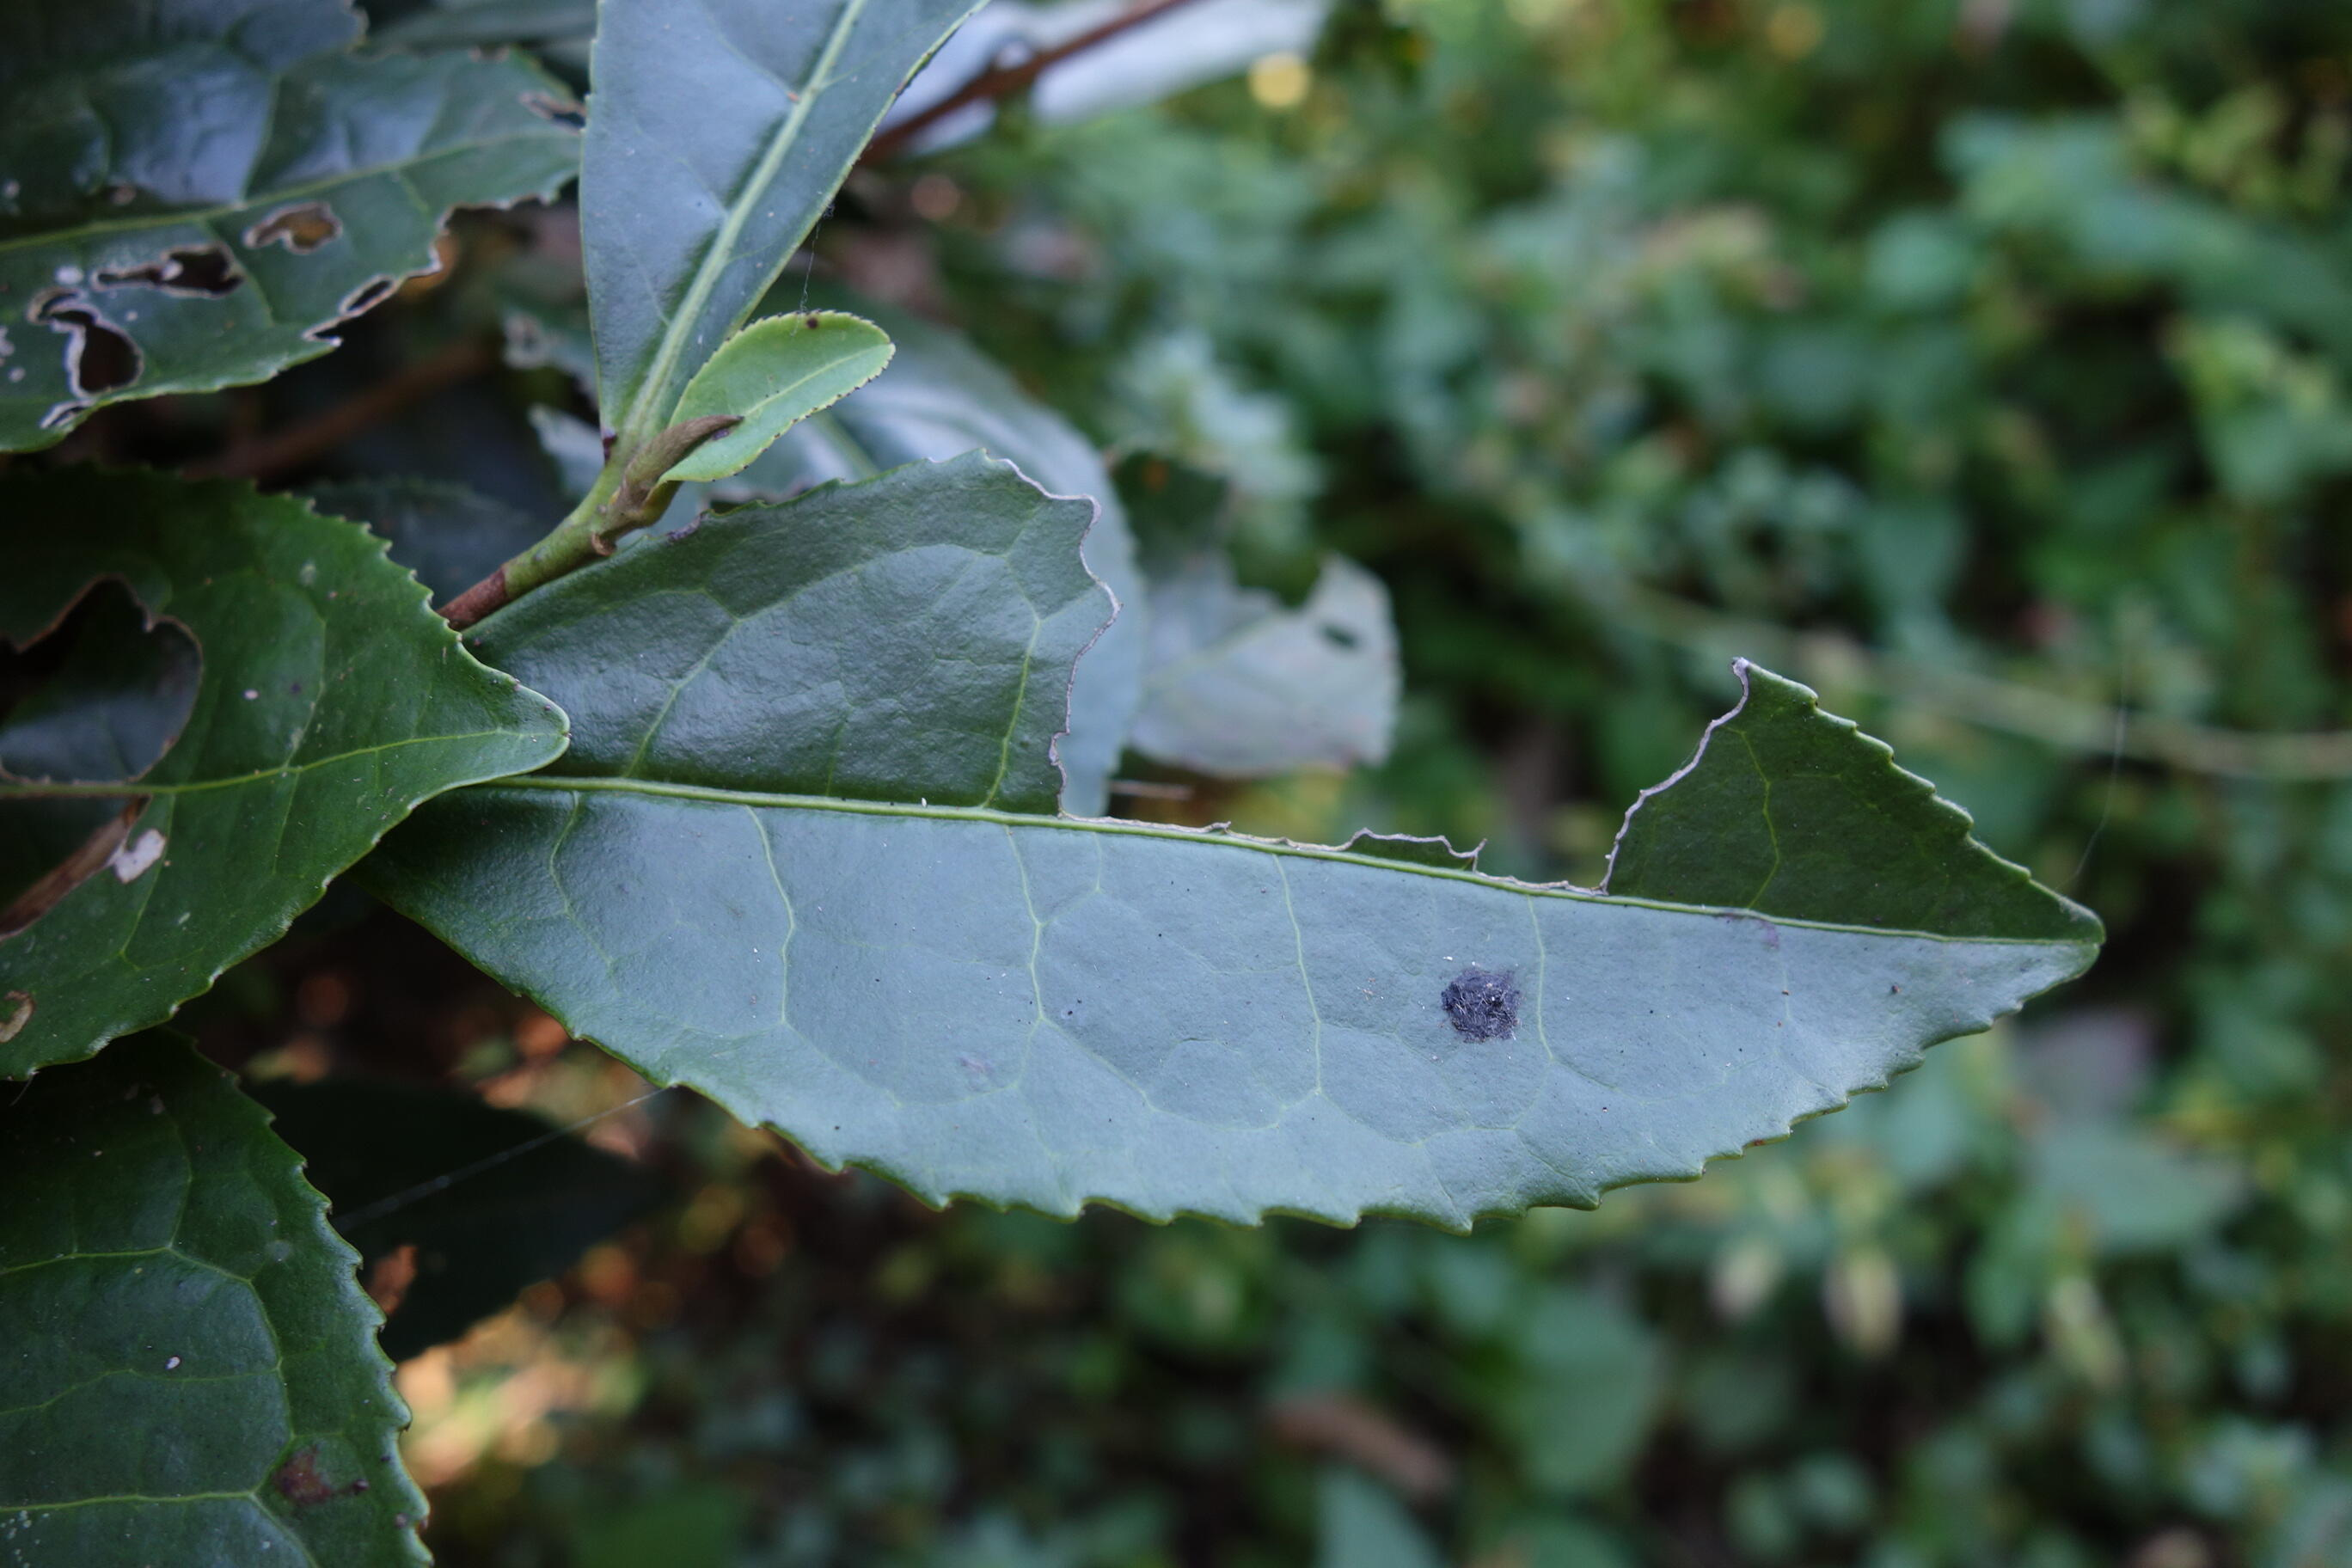chihuo_high: (427, 444, 2112, 1246), (0, 476, 570, 1092), (10, 0, 579, 451)
